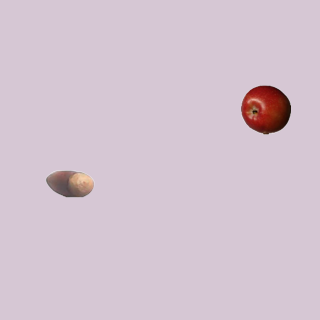Apple Braeburn: (240, 84, 290, 134)
Hazelnut: (44, 158, 94, 208)
